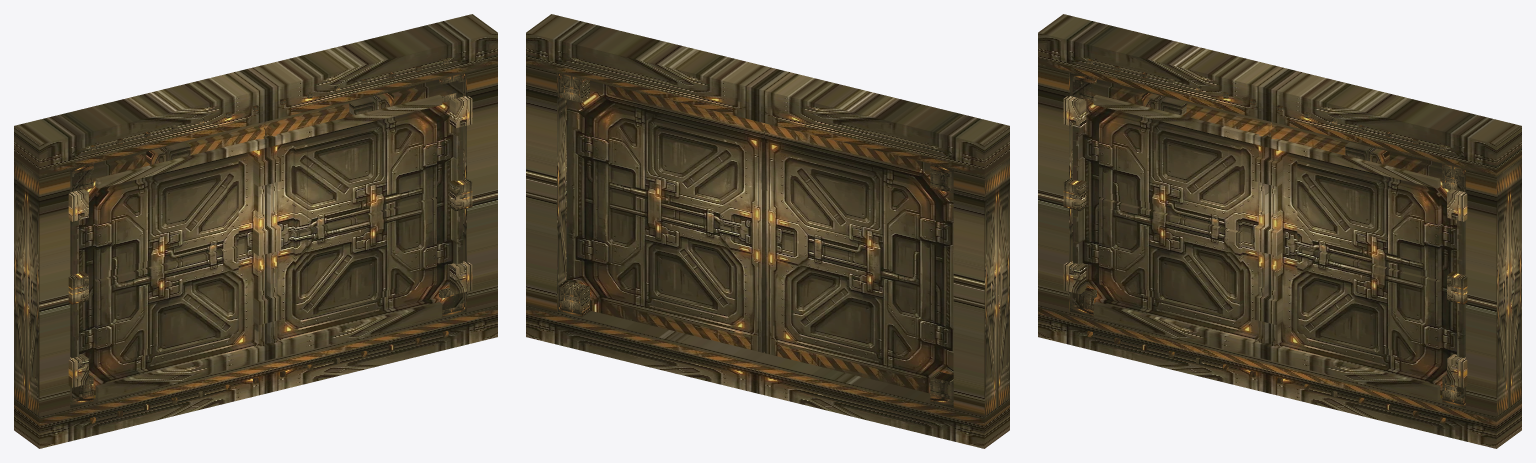
Rendered from hangar_kapi_lonca.glb.
3 renders of one model, left to right at view 1: azimuth 30°, elevation 25°; view 2: azimuth 150°, elevation 25°; view 3: azimuth 330°, elevation 25°, orthographic.
Visible parts, largest first — view 1: FRAME, DOOR_R, DOOR_L; view 2: FRAME, DOOR_R, DOOR_L; view 3: FRAME, DOOR_L, DOOR_R.
Boxes of the visible parts, bbox=[...] form: FRAME: bbox=[14, 14, 497, 448]; DOOR_R: bbox=[264, 79, 463, 343]; DOOR_L: bbox=[70, 122, 270, 398]; FRAME: bbox=[526, 14, 1009, 448]; DOOR_R: bbox=[566, 80, 764, 352]; DOOR_L: bbox=[765, 123, 953, 393]; FRAME: bbox=[1038, 14, 1521, 448]; DOOR_L: bbox=[1072, 79, 1271, 343]; DOOR_R: bbox=[1265, 122, 1465, 398].
Size of the model in its own units: 10.4 by 6.6 by 1.14.
1 material, 1 textured.
